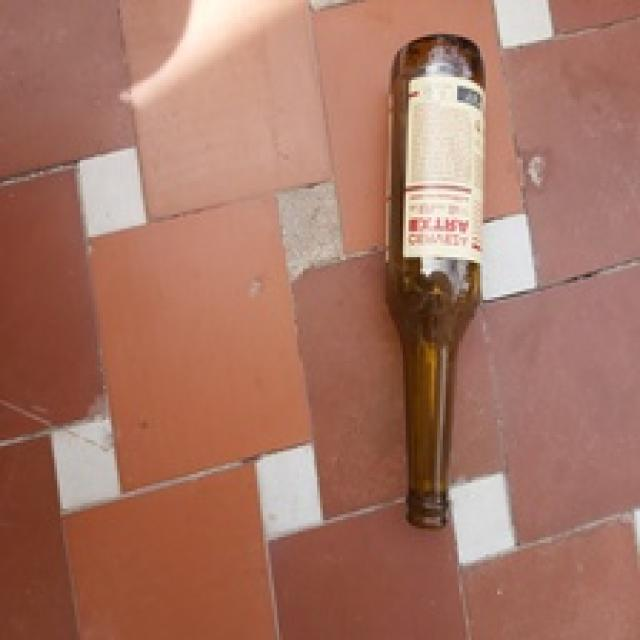glass: (386, 32, 490, 532)
